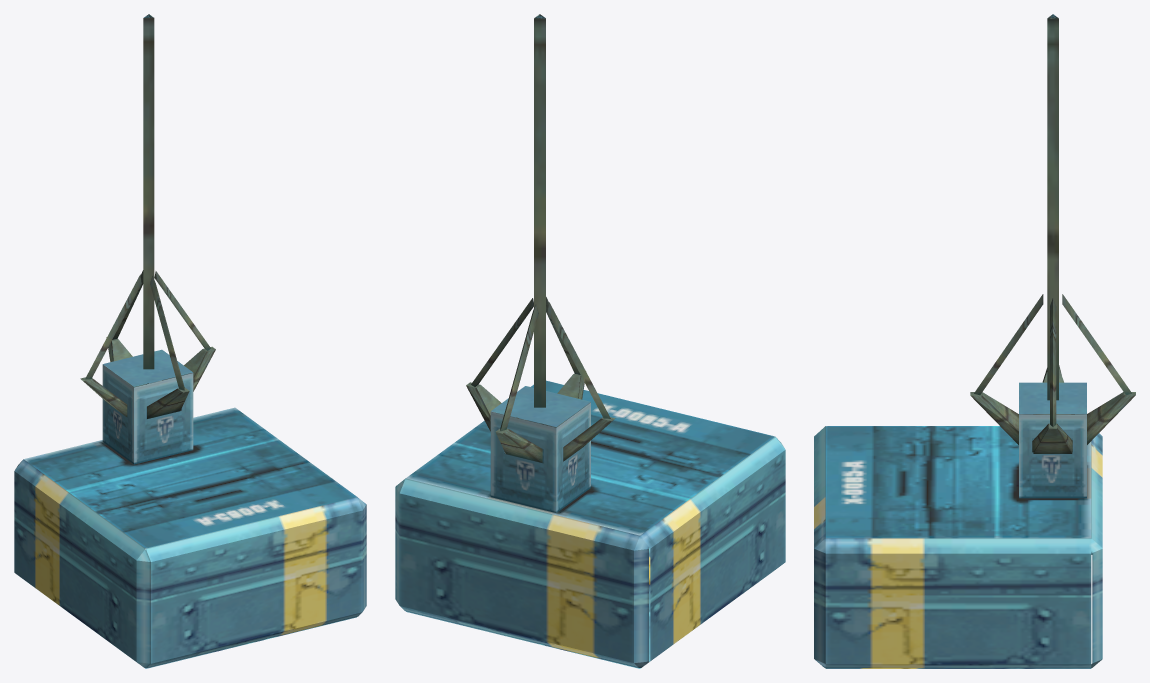
The model's file is C4SMDETONATOR.obj.
The picture shows the model from 3 angles, left to right: view 1: azimuth 30°, elevation 25°; view 2: azimuth 150°, elevation 25°; view 3: azimuth 270°, elevation 25°; orthographic projection. The views are drawn at different scales.
Visible parts, largest first — view 1: Node 0, Node 3; view 2: Node 0, Node 3; view 3: Node 0, Node 3.
Part boxes in pixels (<box>): Node 0: <box>14,407,366,668</box>; Node 3: <box>80,14,215,464</box>; Node 0: <box>395,380,785,668</box>; Node 3: <box>466,14,615,512</box>; Node 0: <box>814,426,1102,668</box>; Node 3: <box>970,14,1135,498</box>.
Size of the model in its own units: 4.5 by 10.27 by 5.02.
Materials: 2 (2 with a texture image).
